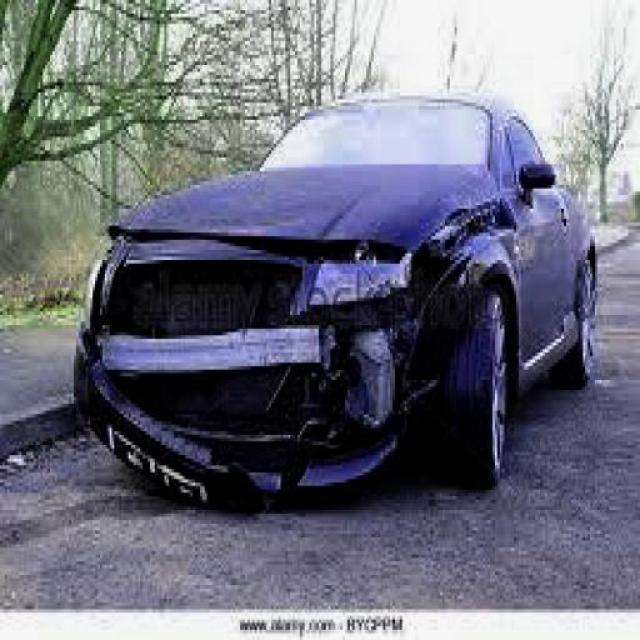Car-Damage: (73, 193, 517, 497)
